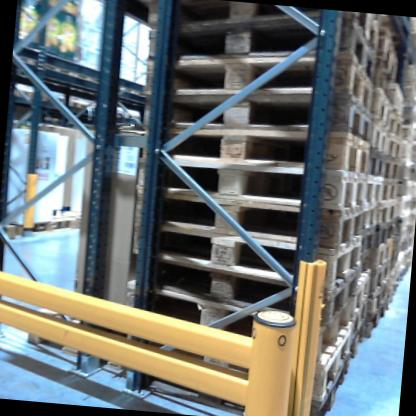pallet: (131, 306, 358, 405), (161, 40, 387, 124), (146, 287, 354, 374), (178, 2, 379, 90), (159, 144, 373, 223), (145, 184, 369, 257), (162, 114, 382, 187), (152, 218, 365, 291), (155, 257, 359, 332), (172, 80, 372, 150), (175, 0, 381, 49), (316, 351, 355, 416), (368, 25, 403, 76), (368, 56, 394, 115), (365, 257, 400, 293), (46, 208, 83, 240), (353, 258, 375, 311), (369, 86, 399, 122), (347, 299, 373, 340), (367, 120, 393, 159), (352, 327, 378, 365), (365, 145, 391, 181), (14, 217, 52, 241), (35, 82, 70, 108), (386, 132, 414, 164), (359, 200, 383, 236), (368, 237, 395, 269), (365, 171, 387, 209), (363, 298, 388, 331), (366, 279, 392, 310), (378, 180, 403, 212), (374, 200, 398, 233), (369, 222, 392, 249), (73, 90, 97, 113), (359, 228, 376, 259), (0, 217, 16, 249), (384, 158, 405, 182), (393, 114, 409, 142)
